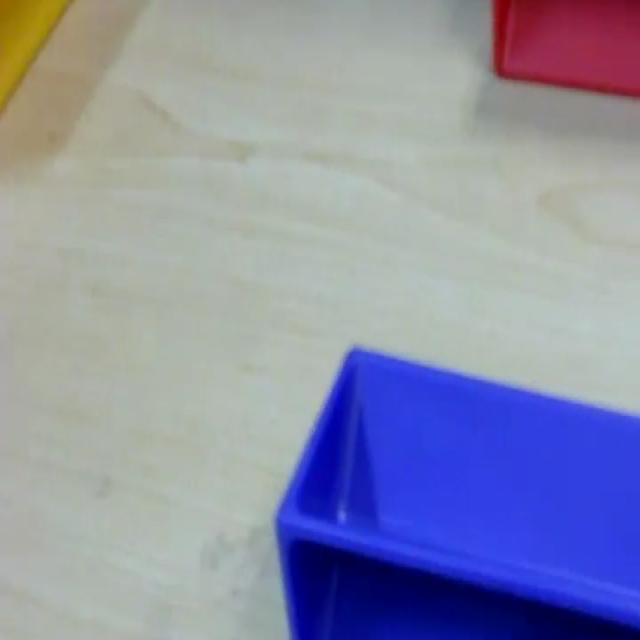blue_block: (272, 341, 638, 636)
red_block: (489, 0, 638, 97)
